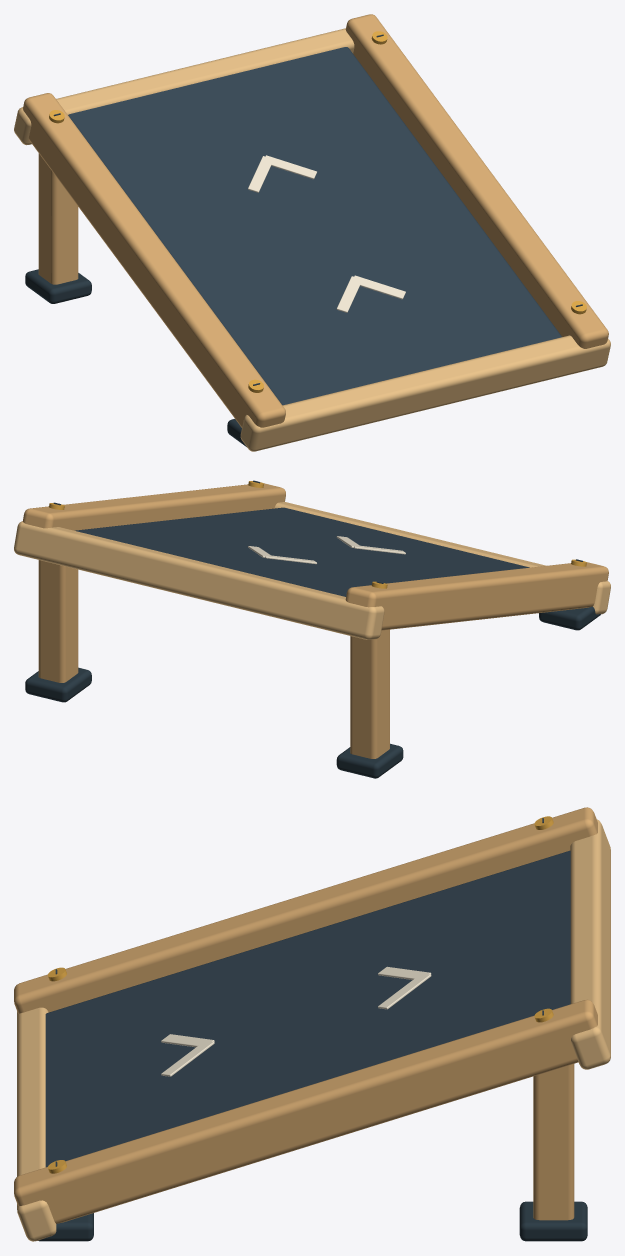
File: play-ramp.glb
The picture shows the model from 3 angles, top to bottom: view 1: azimuth 30°, elevation 25°; view 2: azimuth 150°, elevation 25°; view 3: azimuth 270°, elevation 25°; orthographic projection. The views are drawn at different scales.
Parts seen in each view (by area): view 1: Ramp_Driving_Surface, Ramp_Wood_Rail_Left, Ramp_Wood_Rail_Right, Ramp_End_Bar_0.185, Ramp_End_Bar_-0.185, Ramp_Rear_Support_-0.139, Ramp_Rear_Foot_-0.139; view 2: Ramp_Driving_Surface, Ramp_End_Bar_-0.185, Ramp_Wood_Rail_Left, Ramp_Wood_Rail_Right, Ramp_Rear_Support_-0.139, Ramp_Rear_Support_0.139, Ramp_End_Bar_0.185, Ramp_Rear_Foot_0.139, Ramp_Rear_Foot_-0.139, Ramp_Front_Foot_-0.139; view 3: Ramp_Driving_Surface, Ramp_Wood_Rail_Right, Ramp_Wood_Rail_Left, Ramp_End_Bar_-0.185, Ramp_Rear_Support_0.139, Ramp_End_Bar_0.185, Ramp_Rear_Foot_0.139, Ramp_Front_Foot_0.139.
Part boxes in pixels (<box>): Ramp_Driving_Surface: <box>68,47,561,405</box>; Ramp_Wood_Rail_Left: <box>23,93,285,427</box>; Ramp_Wood_Rail_Right: <box>345,14,608,348</box>; Ramp_End_Bar_0.185: <box>240,335,610,451</box>; Ramp_End_Bar_-0.185: <box>14,28,354,145</box>; Ramp_Rear_Support_-0.139: <box>38,153,78,284</box>; Ramp_Rear_Foot_-0.139: <box>25,269,91,303</box>; Ramp_Driving_Surface: <box>75,507,529,596</box>; Ramp_End_Bar_-0.185: <box>14,521,384,639</box>; Ramp_Wood_Rail_Left: <box>345,562,608,630</box>; Ramp_Wood_Rail_Right: <box>23,483,285,530</box>; Ramp_Rear_Support_-0.139: <box>350,629,389,758</box>; Ramp_Rear_Support_0.139: <box>38,560,78,682</box>; Ramp_End_Bar_0.185: <box>274,502,610,614</box>; Ramp_Rear_Foot_0.139: <box>25,667,91,702</box>; Ramp_Rear_Foot_-0.139: <box>336,743,403,778</box>; Ramp_Front_Foot_-0.139: <box>539,606,600,630</box>; Ramp_Driving_Surface: <box>45,850,570,1167</box>; Ramp_Wood_Rail_Right: <box>14,999,597,1223</box>; Ramp_Wood_Rail_Left: <box>14,807,597,1013</box>; Ramp_End_Bar_-0.185: <box>570,819,610,1069</box>; Ramp_Rear_Support_0.139: <box>533,1064,574,1220</box>; Ramp_End_Bar_0.185: <box>17,1007,56,1241</box>; Ramp_Rear_Foot_0.139: <box>519,1201,587,1241</box>; Ramp_Front_Foot_0.139: <box>38,1213,93,1241</box>.
Bounding box in the file's own units: 0.32 × 0.1594 × 0.3778.
